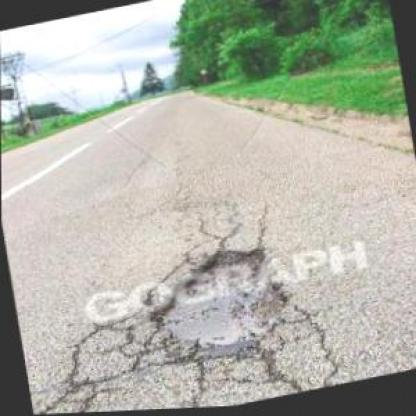pothole: (136, 237, 299, 375)
